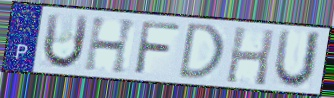D: (175, 21, 227, 81)
F: (131, 18, 183, 77)
H: (82, 16, 140, 76), (223, 24, 277, 88)
U: (271, 27, 324, 91), (41, 11, 92, 71)
